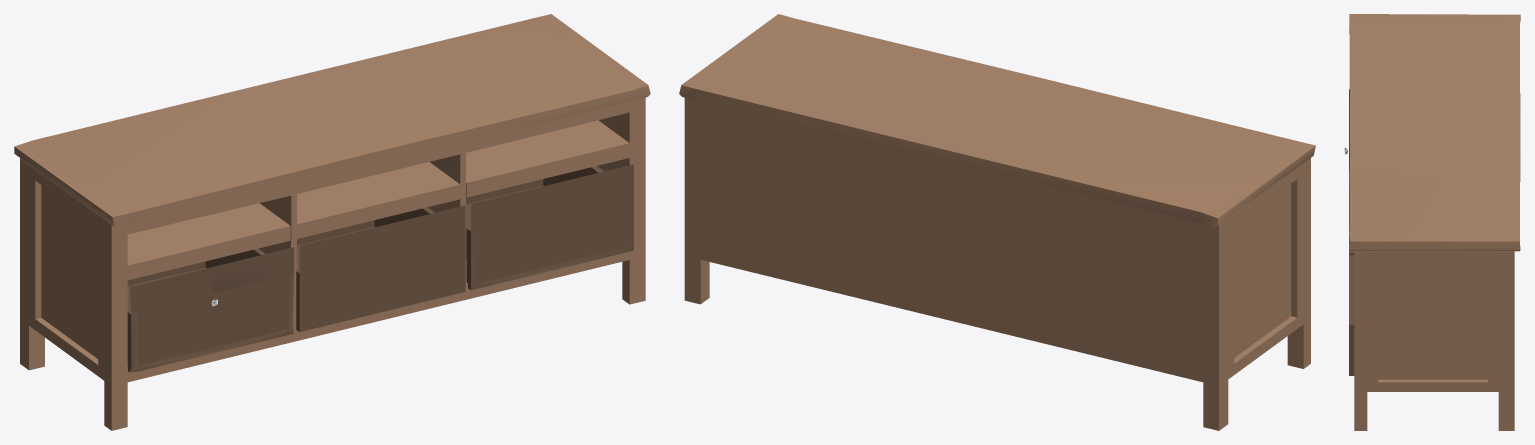
Rendered from table.glb.
3 renders of one model, left to right at view 1: azimuth 30°, elevation 25°; view 2: azimuth 150°, elevation 25°; view 3: azimuth 270°, elevation 25°, orthographic. The views are drawn at different scales.
Visible parts, largest first — view 1: Cube; view 2: Cube; view 3: Cube.
Part boxes in pixels (x1=…): Cube: x1=14, y1=14, x2=650, y2=430; Cube: x1=679, y1=14, x2=1315, y2=430; Cube: x1=1344, y1=14, x2=1520, y2=430.
Bounding box in the file's own units: 1.49 × 0.5758 × 0.4847.
